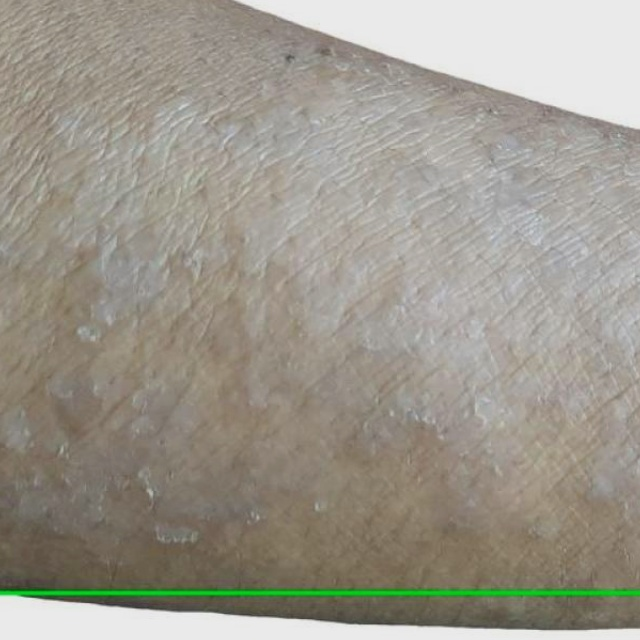Tinea Corporis: (0, 592, 639, 639)
